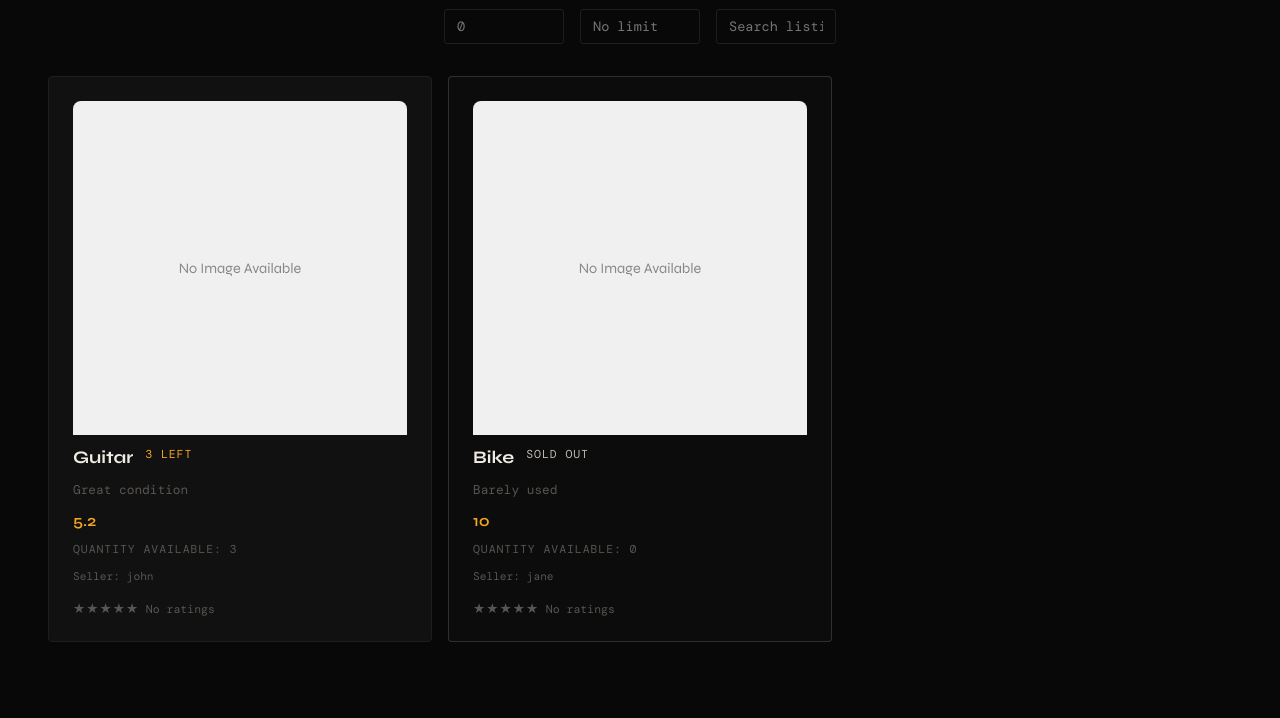
Test: Listings › removes an item from wishlist from the modal when already saved
The width and height of the screenshot is (1280, 718).
(page scrolled)
Expected: the text "Guitar" is shown, [73,447,133,468]
Click the button with aria-label "view details for guitar": [240, 359] box [48,76,432,642]
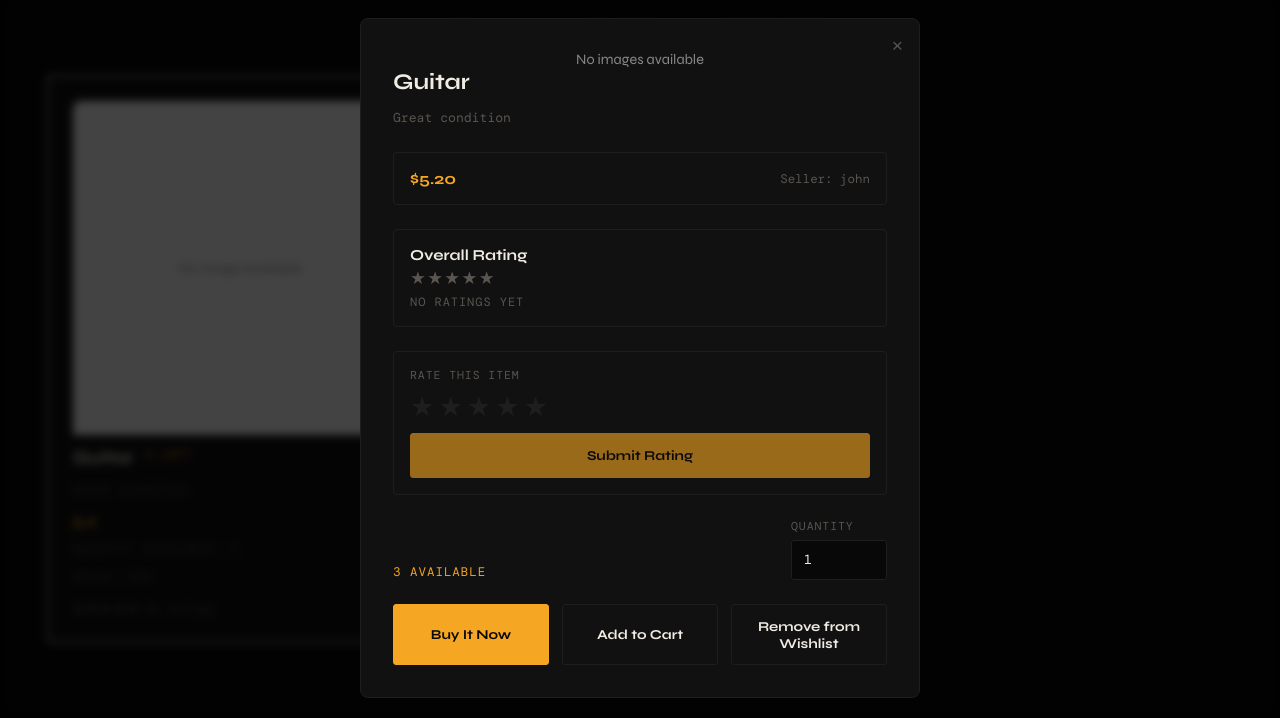
Expected: the button "Remove from Wishlist" is shown
Click the button "Remove from Wishlist": [809, 635] box [731,604,887,665]
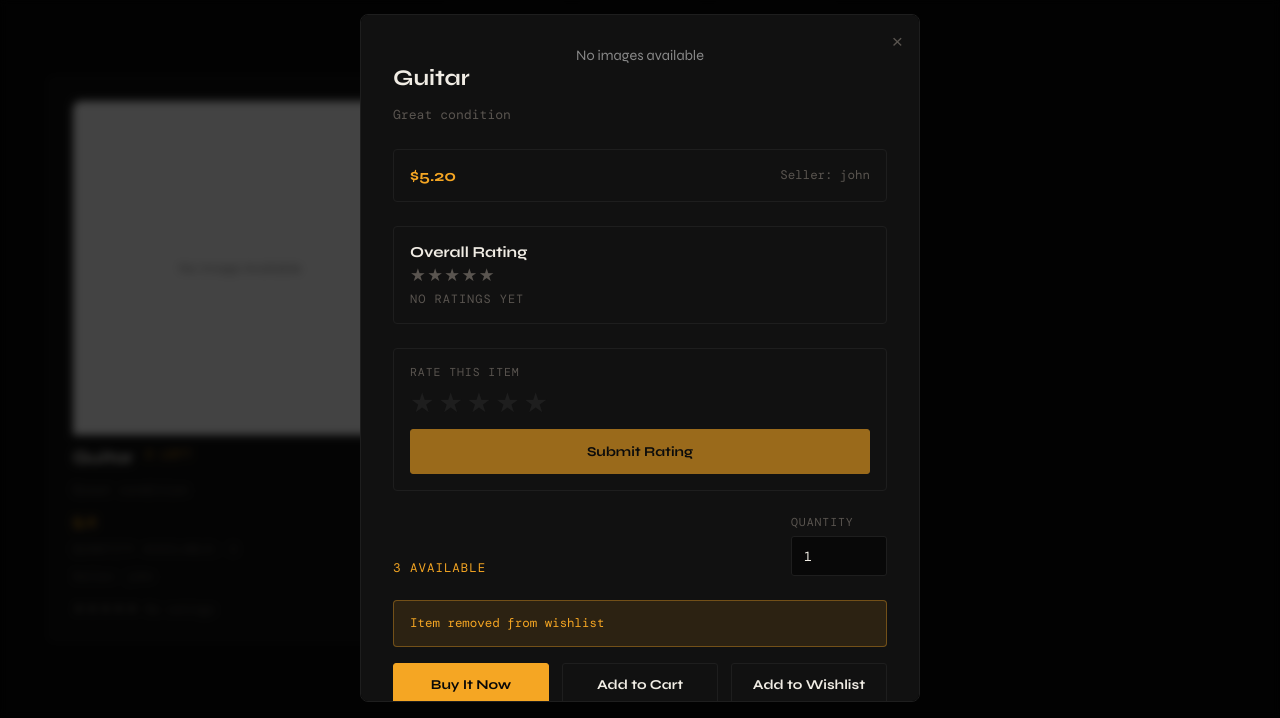
Expected: the text "Item removed from wishlist" is shown, [393,600,887,646]
